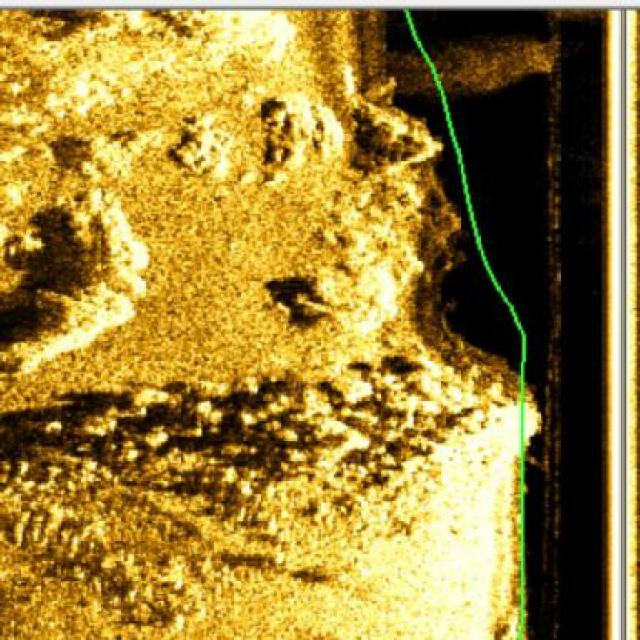bedrock group: (0, 352, 448, 639)
